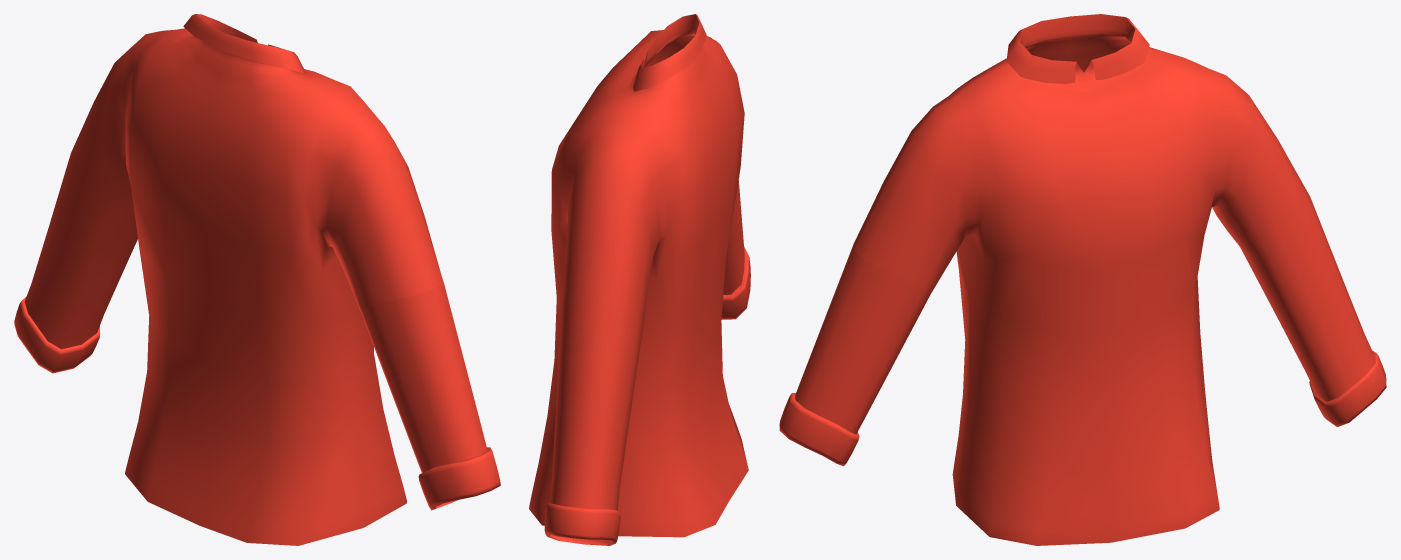
The model's file is longsleve red shirt.fbx.
The picture shows the model from 3 angles, left to right: view 1: azimuth 30°, elevation 25°; view 2: azimuth 150°, elevation 25°; view 3: azimuth 270°, elevation 25°; orthographic projection. The views are drawn at different scales.
Parts seen in each view (by area): view 1: shirt_low_po; view 2: shirt_low_po; view 3: shirt_low_po.
Part boxes in pixels (x1,y1,x2,y2): shirt_low_po: (14,14,500,545); shirt_low_po: (529,14,750,545); shirt_low_po: (779,14,1386,545).
Size of the model in its own units: 143 by 320 by 378.
